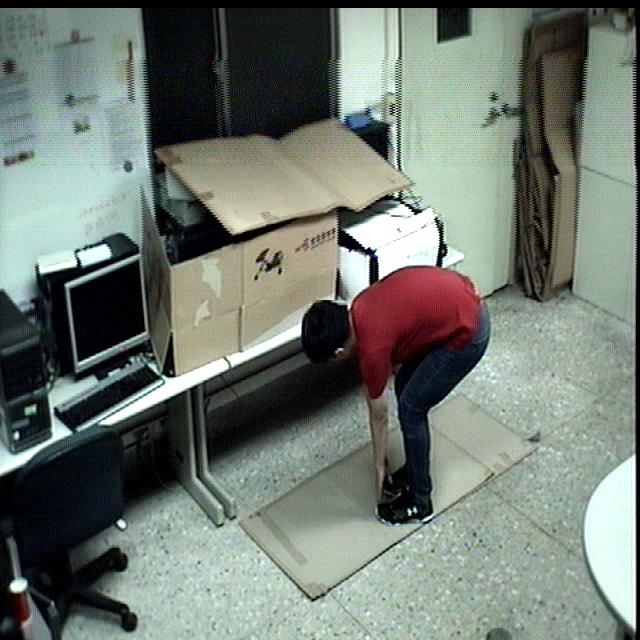bend: (298, 262, 497, 532)
